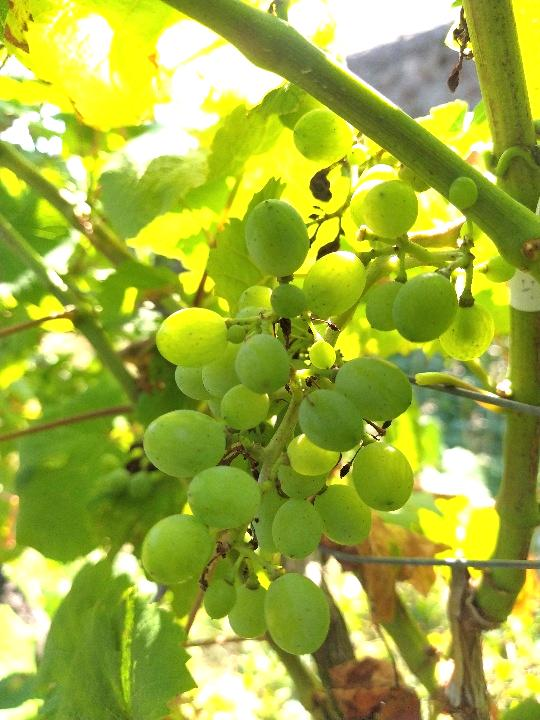grape: (137, 109, 519, 662)
